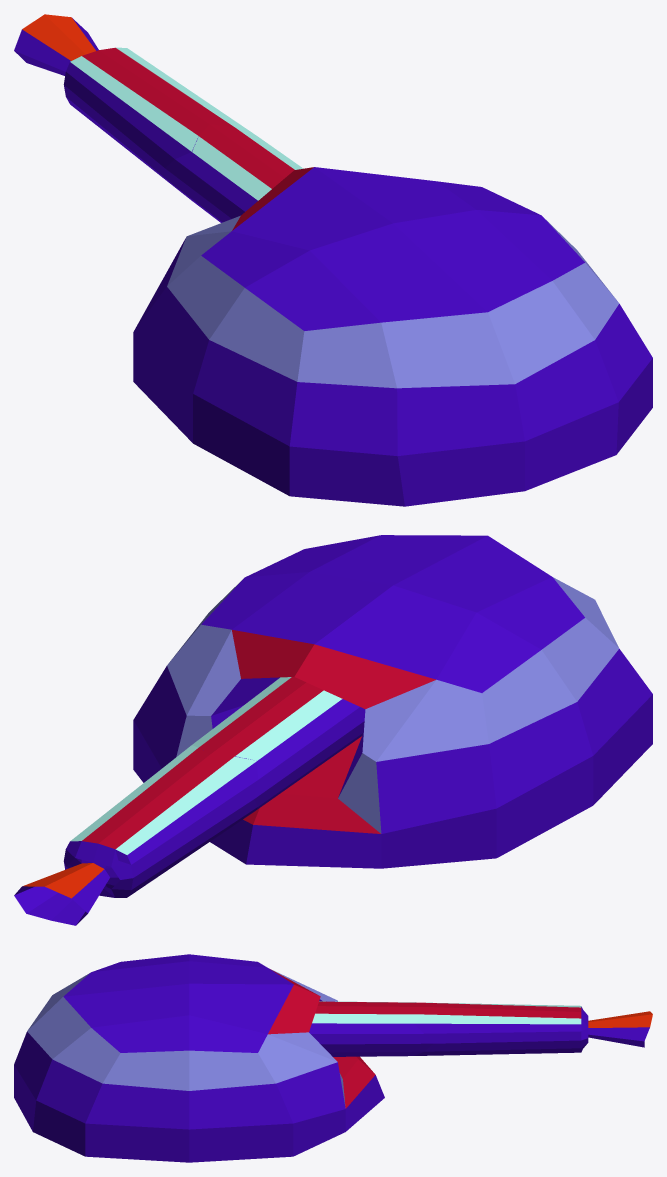
Rendered from GunshipTower2.fbx.
3 views of the same model, one above another, from view 1: azimuth 30°, elevation 25°; view 2: azimuth 150°, elevation 25°; view 3: azimuth 270°, elevation 25° (orthographic). The views are drawn at different scales.
Visible parts, largest first — view 1: TykkiTorni; view 2: TykkiTorni; view 3: TykkiTorni.
Part boxes in pixels (x1=…): TykkiTorni: x1=14, y1=14, x2=652, y2=506; TykkiTorni: x1=14, y1=535, x2=652, y2=925; TykkiTorni: x1=14, y1=954, x2=652, y2=1162.
Size of the model in its own units: 83.42 by 173 by 34.15.
